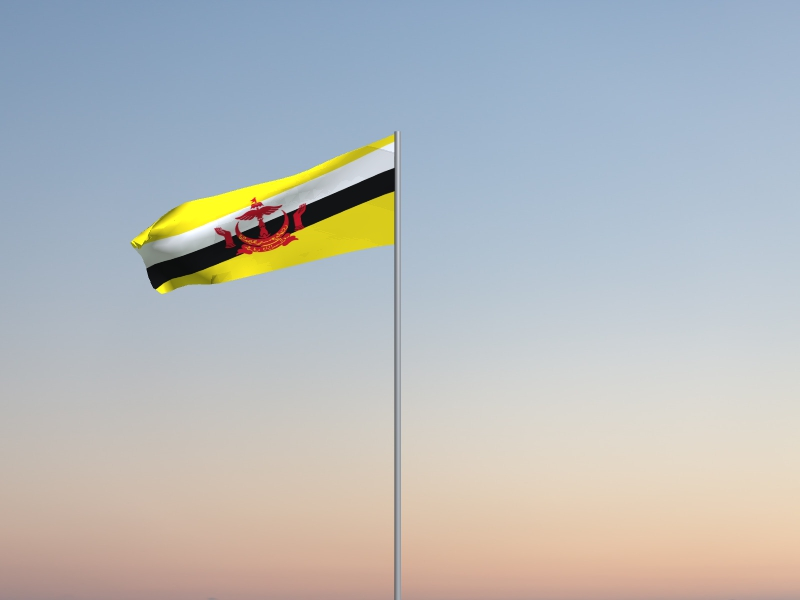bn: (130, 135, 395, 296)
